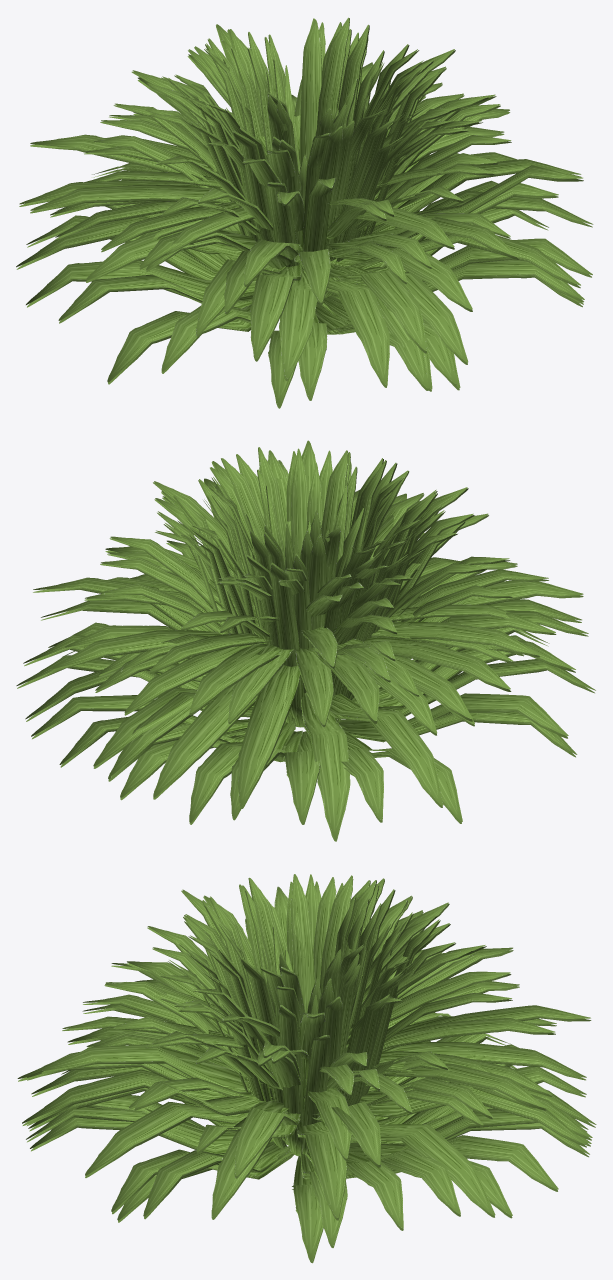
The model's file is biggrass.fbx.
3 views of the same model, one above another, from view 1: azimuth 30°, elevation 25°; view 2: azimuth 150°, elevation 25°; view 3: azimuth 270°, elevation 25° (orthographic).
Parts seen in each view (by area): view 1: plants3.003; view 2: plants3.003; view 3: plants3.003.
Part boxes in pixels (box(x1,y1,x2,y2)): plants3.003: box(16, 17, 593, 408); plants3.003: box(16, 440, 595, 841); plants3.003: box(17, 874, 596, 1263).
Size of the model in its own units: 1512 by 700 by 1501.
